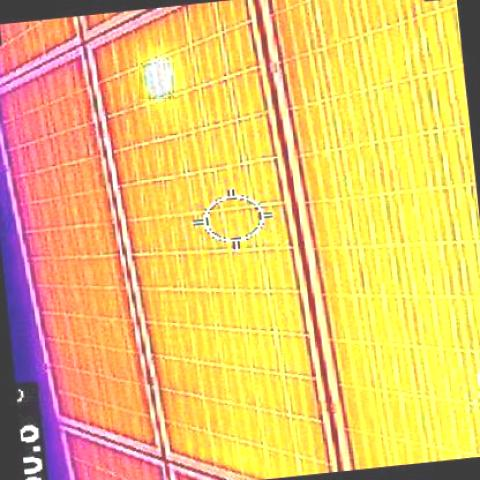fault: (139, 64, 174, 100)
